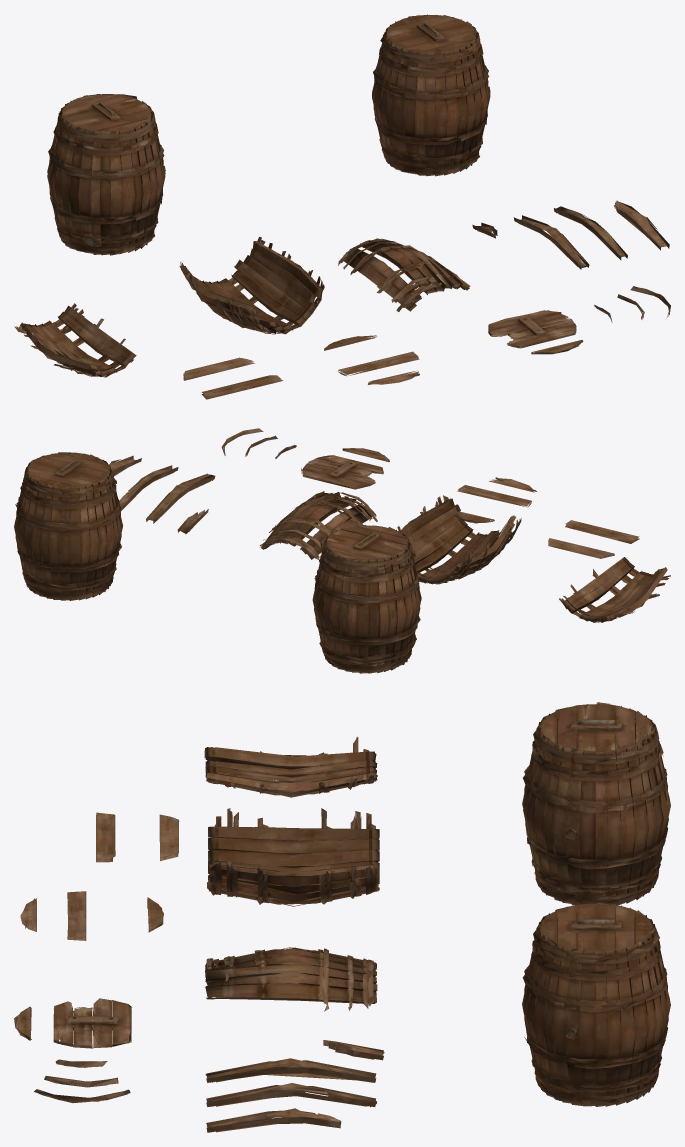
Rendered from wooden_barrels_01.glb.
3 views of the same model, one above another, from view 1: azimuth 30°, elevation 25°; view 2: azimuth 150°, elevation 25°; view 3: azimuth 270°, elevation 25° (orthographic). The views are drawn at different scales.
Visible parts, largest first — view 1: wooden_barrels_01_barrel02, wooden_barrels_01_barrel01, wooden_barrels_01_piece01, wooden_barrels_01_piece03, wooden_barrels_01_piece02, wooden_barrels_01_piece08, wooden_barrels_01_piece04, wooden_barrels_01_piece05, wooden_barrels_01_piece06, wooden_barrels_01_piece11, wooden_barrels_01_piece14, wooden_barrels_01_piece13; view 2: wooden_barrels_01_barrel02, wooden_barrels_01_barrel01, wooden_barrels_01_piece01, wooden_barrels_01_piece03, wooden_barrels_01_piece02, wooden_barrels_01_piece08, wooden_barrels_01_piece04, wooden_barrels_01_piece14, wooden_barrels_01_piece05, wooden_barrels_01_piece11, wooden_barrels_01_piece13; view 3: wooden_barrels_01_barrel01, wooden_barrels_01_barrel02, wooden_barrels_01_piece01, wooden_barrels_01_piece03, wooden_barrels_01_piece02, wooden_barrels_01_piece08, wooden_barrels_01_piece04, wooden_barrels_01_piece05, wooden_barrels_01_piece06, wooden_barrels_01_piece14, wooden_barrels_01_piece11, wooden_barrels_01_piece13 (+1 smaller).
Part boxes in pixels (x1,y1,x2,y2): wooden_barrels_01_barrel02: [47, 94, 165, 255]; wooden_barrels_01_barrel01: [372, 14, 490, 176]; wooden_barrels_01_piece01: [179, 236, 324, 334]; wooden_barrels_01_piece03: [338, 238, 470, 311]; wooden_barrels_01_piece02: [14, 303, 136, 377]; wooden_barrels_01_piece08: [488, 310, 576, 348]; wooden_barrels_01_piece04: [513, 215, 589, 269]; wooden_barrels_01_piece05: [554, 206, 627, 260]; wooden_barrels_01_piece06: [614, 200, 669, 250]; wooden_barrels_01_piece11: [338, 351, 419, 376]; wooden_barrels_01_piece14: [201, 375, 283, 399]; wooden_barrels_01_piece13: [183, 357, 254, 380]; wooden_barrels_01_barrel02: [312, 524, 421, 673]; wooden_barrels_01_barrel01: [14, 452, 122, 600]; wooden_barrels_01_piece01: [397, 495, 521, 584]; wooden_barrels_01_piece03: [259, 491, 377, 559]; wooden_barrels_01_piece02: [559, 557, 670, 622]; wooden_barrels_01_piece08: [301, 455, 383, 489]; wooden_barrels_01_piece04: [146, 473, 215, 523]; wooden_barrels_01_piece14: [565, 520, 639, 543]; wooden_barrels_01_piece05: [119, 465, 178, 510]; wooden_barrels_01_piece11: [457, 485, 531, 507]; wooden_barrels_01_piece13: [548, 538, 614, 558]; wooden_barrels_01_barrel01: [522, 902, 670, 1106]; wooden_barrels_01_barrel02: [522, 702, 670, 905]; wooden_barrels_01_piece01: [207, 808, 379, 906]; wooden_barrels_01_piece03: [205, 947, 377, 1011]; wooden_barrels_01_piece02: [204, 736, 377, 797]; wooden_barrels_01_piece08: [53, 998, 131, 1048]; wooden_barrels_01_piece04: [205, 1058, 376, 1082]; wooden_barrels_01_piece05: [206, 1083, 376, 1107]; wooden_barrels_01_piece06: [206, 1108, 341, 1132]; wooden_barrels_01_piece14: [96, 812, 115, 862]; wooden_barrels_01_piece11: [67, 891, 86, 940]; wooden_barrels_01_piece13: [159, 814, 179, 860].
Size of the model in its own units: 4.44 by 0.9558 by 3.36.
3 materials, 3 textured.
